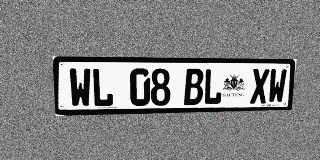0: (130, 68, 150, 106)
8: (151, 68, 171, 106)
B: (184, 69, 204, 105)
L: (91, 68, 113, 107), (203, 69, 223, 105)
W: (69, 68, 92, 108), (267, 69, 287, 103)
X: (250, 69, 270, 104)
